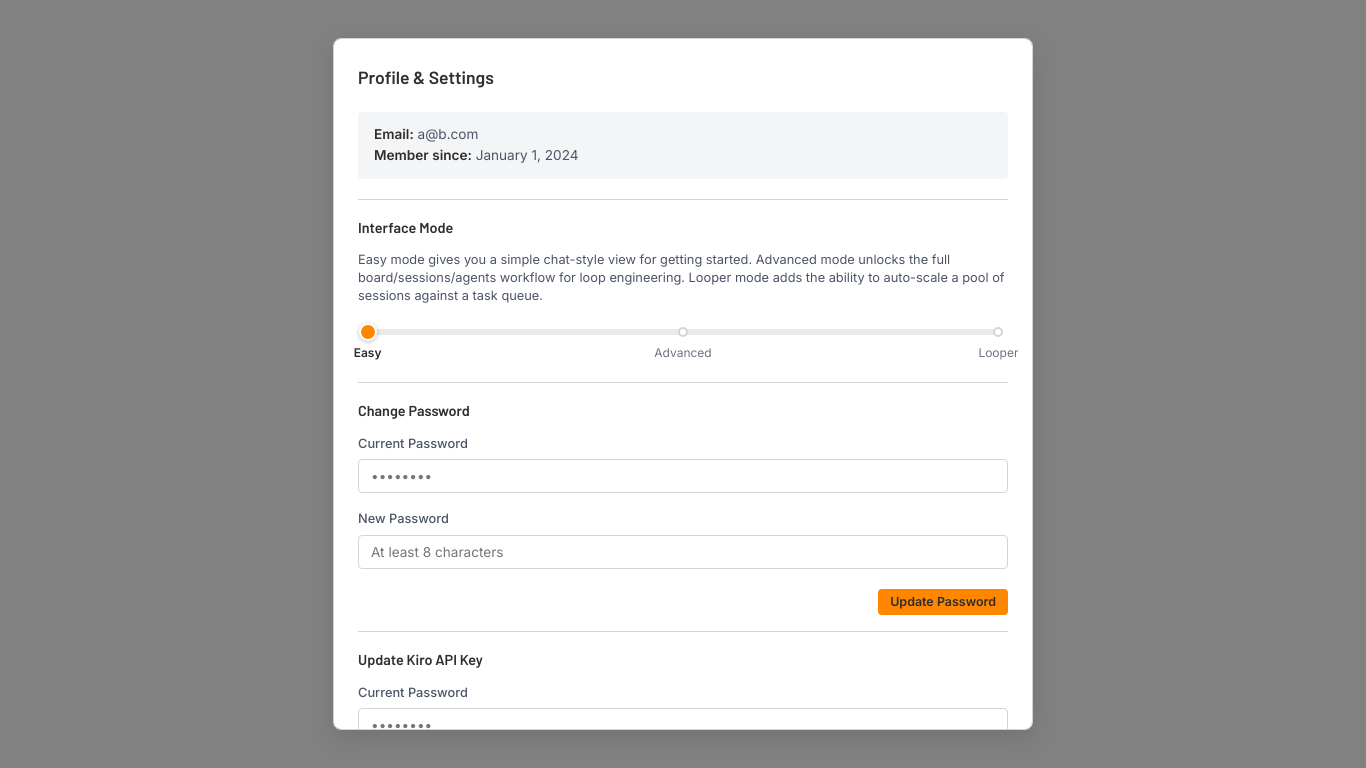
SettingsModal — Interface Mode › confirmation prompt warns that switching will stop all running sessions
Step 1. Click the button named "Advanced" → x=683, y=332, box [678,327,688,337]
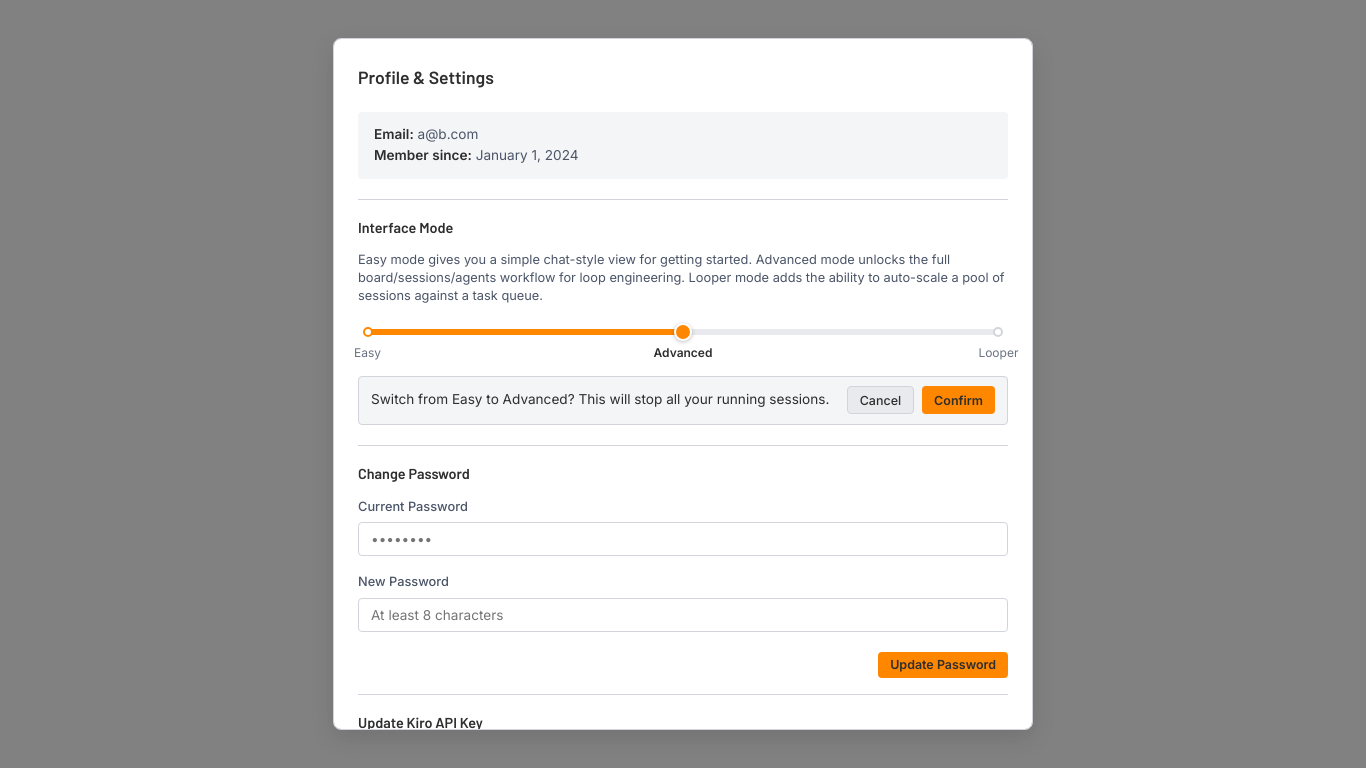
Result: the text "stop all your running sessions" is shown at [371,391,829,407]
